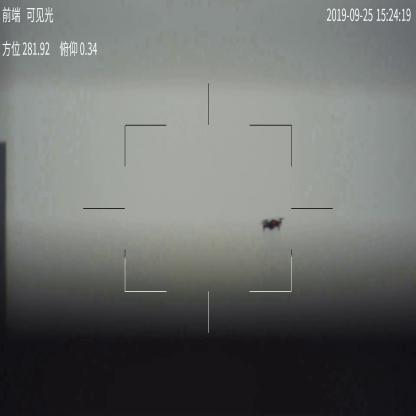uav: (262, 216, 283, 231)
